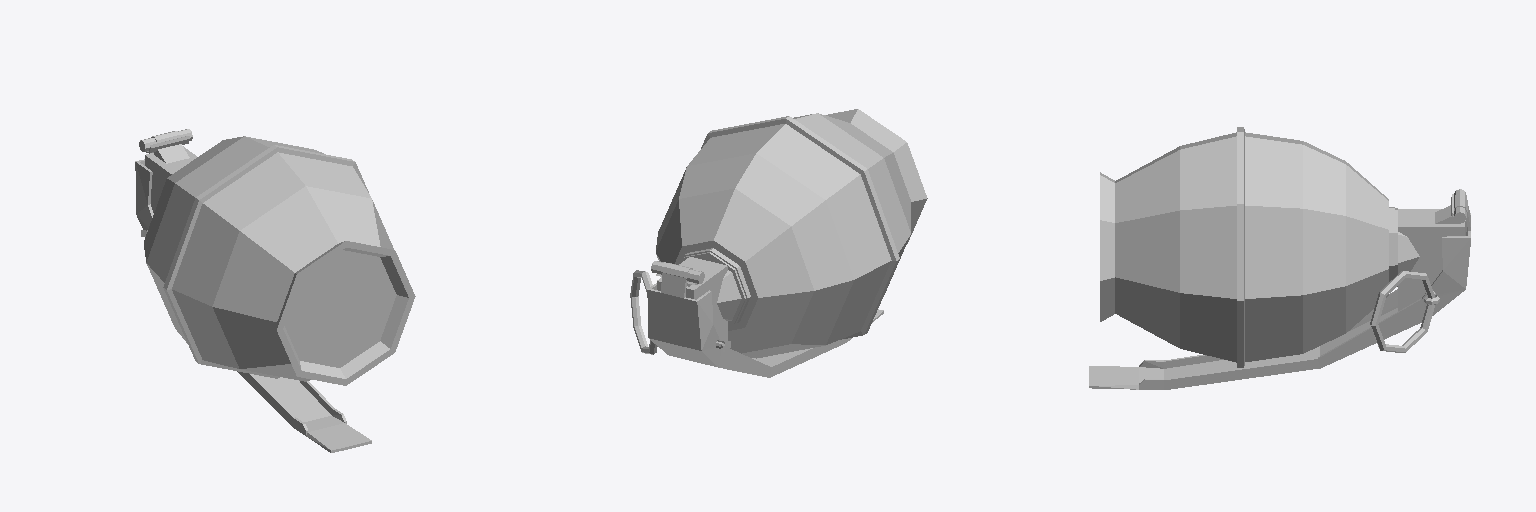
The model's file is frag_grenade.obj.
The picture shows the model from 3 angles: view 1: azimuth 30°, elevation 25°; view 2: azimuth 150°, elevation 25°; view 3: azimuth 270°, elevation 25°; orthographic projection.
Visible parts, largest first — view 1: grenadeModel; view 2: grenadeModel, pinModel; view 3: grenadeModel, pinModel.
Part boxes in pixels (x1,y1,x2,y2): grenadeModel: (135,129,415,452); grenadeModel: (647,109,927,377); pinModel: (630,270,730,354); grenadeModel: (1089,127,1470,389); pinModel: (1370,271,1439,352).
Size of the model in its own units: 2.15 by 2.31 by 3.22.